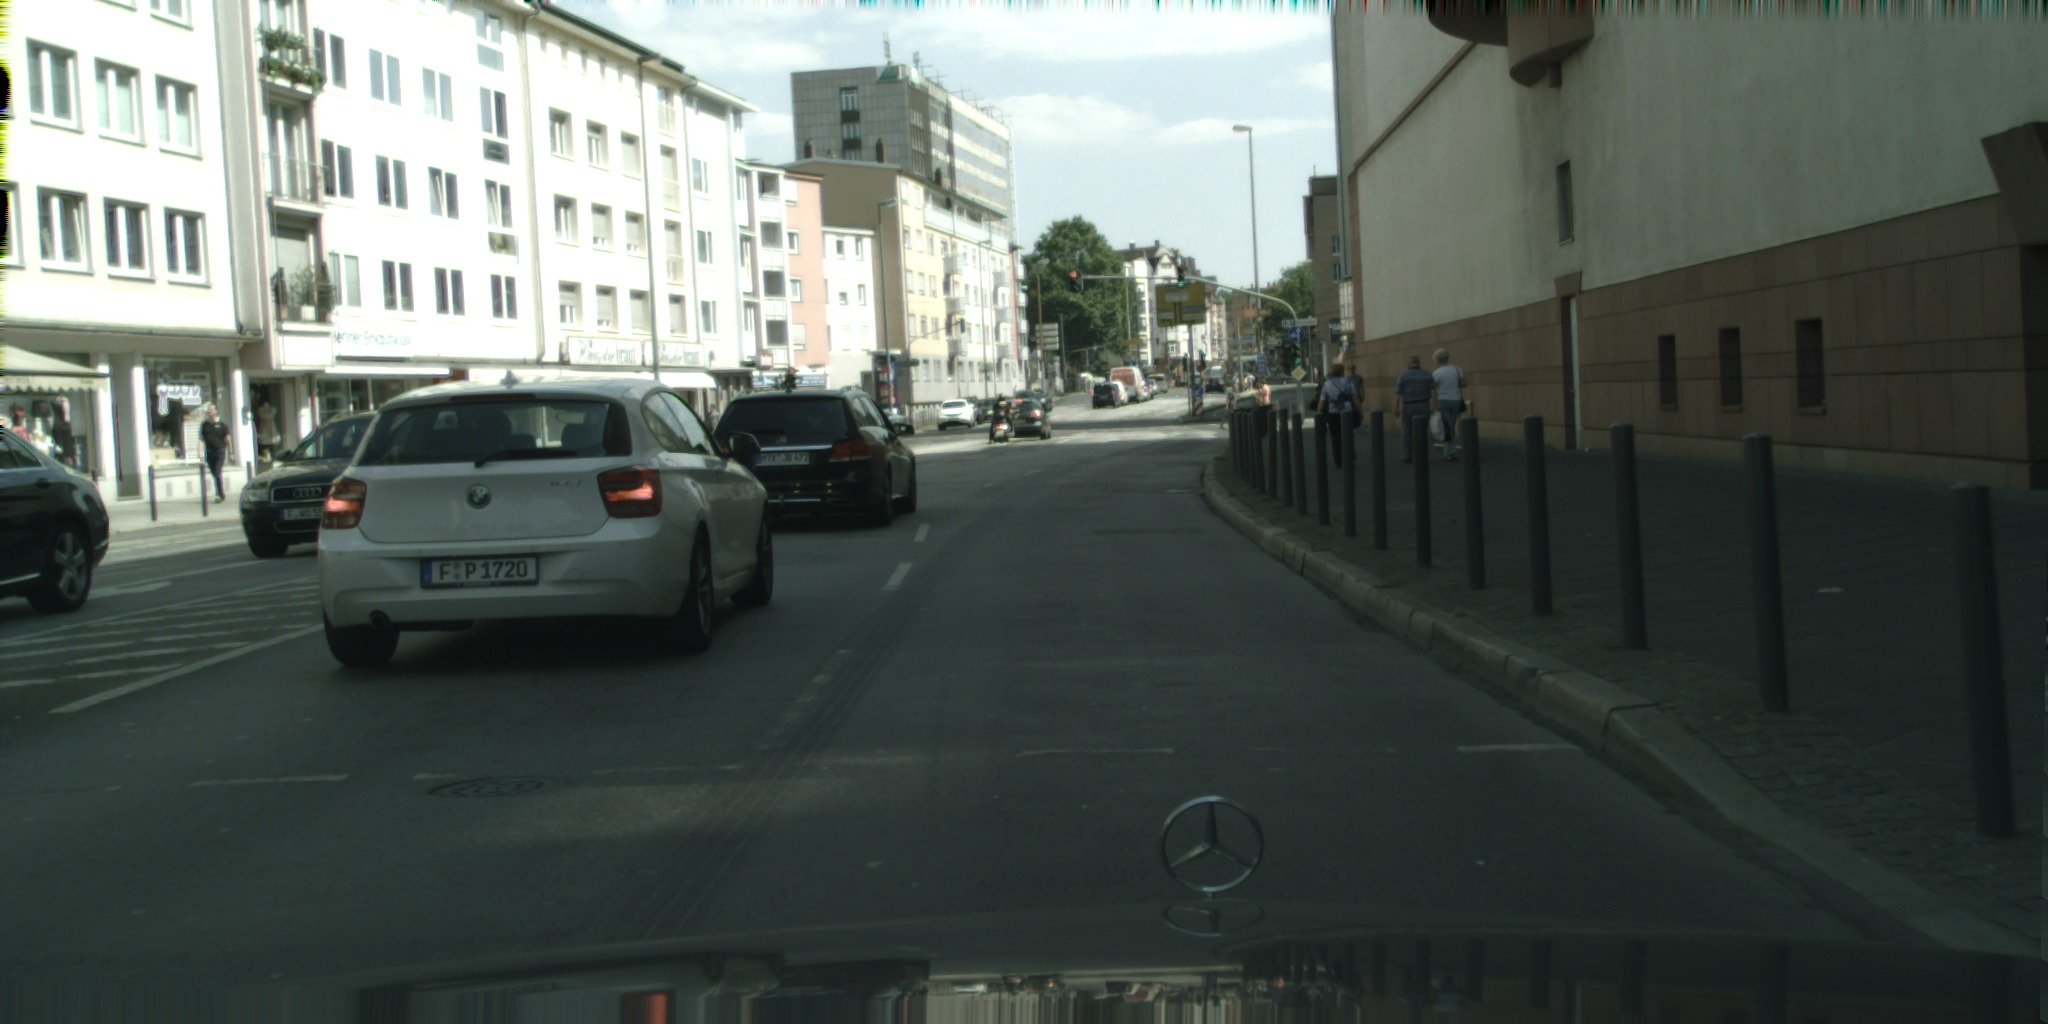car: (317, 369, 773, 668), (697, 385, 917, 532), (237, 410, 425, 559), (0, 424, 109, 614), (996, 398, 1052, 441), (937, 399, 975, 430), (947, 395, 985, 425), (966, 398, 1008, 425), (1014, 389, 1053, 416), (1203, 368, 1227, 393)
motorcycle: (992, 407, 1010, 443)
person: (1392, 354, 1453, 465), (1316, 362, 1365, 471), (1425, 349, 1467, 463), (197, 401, 234, 503), (1342, 363, 1365, 414), (1309, 378, 1337, 414), (1218, 383, 1239, 431), (704, 403, 724, 443), (1257, 379, 1271, 411), (1012, 383, 1017, 398)
rider: (987, 392, 1014, 444)
